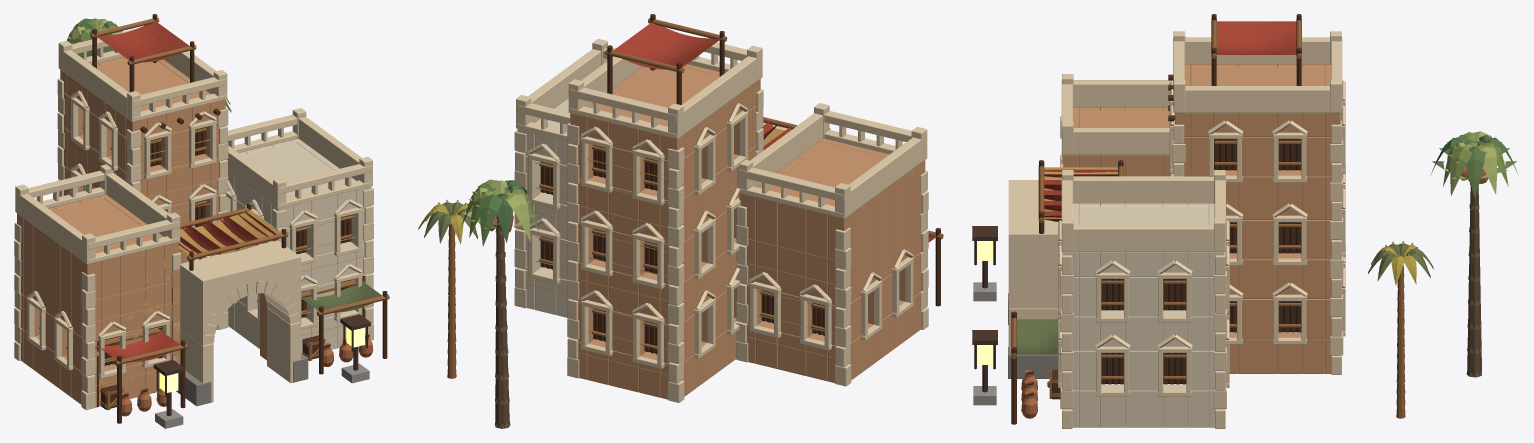
File: aden.glb
3 renders of one model, left to right at view 1: azimuth 30°, elevation 25°; view 2: azimuth 150°, elevation 25°; view 3: azimuth 270°, elevation 25°, orthographic. The views are drawn at different scales.
Visible parts, largest first — view 1: aden_B03R2_aden_Trim_001_02, aden_B03R2_aden_Ochre_001_04, aden_B03R2_aden_Plaster_001_05, aden_B03R2_aden_ClothRed_001_12, aden_B03R2_aden_Wood_001_00, aden_B03R2_aden_WoodLight_001_01, aden_B03R2_aden_ClothGold_001_11, aden_B03R2_aden_Pot_001_08, aden_WarmMini_wooddark_15, aden_B03R2_aden_EarthLight_001_07, aden_B03R2_aden_Stone_001_06, aden_B03R2_aden_LeafOlive_001_10 (+2 smaller); view 2: aden_B03R2_aden_Trim_001_02, aden_B03R2_aden_Ochre_001_04, aden_B03R2_aden_Plaster_001_05, aden_B03R2_aden_Wood_001_00, aden_B03R2_aden_WoodLight_001_01, aden_B03R2_aden_ClothRed_001_12, aden_BiomeV3_Branch_22, aden_B03R2_aden_EarthLight_001_07, aden_BiomeV3_Foliage_palm2_19, aden_BiomeV3_Foliage_palm0_17, aden_B03R2_aden_LeafOlive_001_10, aden_BiomeV3_Foliage_palm1_18 (+3 smaller); view 3: aden_B03R2_aden_Trim_001_02, aden_B03R2_aden_Ochre_001_04, aden_B03R2_aden_Plaster_001_05, aden_B03R2_aden_Wood_001_00, aden_B03R2_aden_WoodLight_001_01, aden_B03R2_aden_ClothRed_001_12, aden_B03R2_aden_LeafOlive_001_10, aden_BiomeV3_Branch_22, aden_WarmMini_wooddark_15, aden_B03R2_aden_Dark_001_03, aden_BiomeV3_Foliage_palm1_18, aden_B03R2_aden_Stone_001_06 (+7 smaller).
Boxes of the visible parts, x1,y1,x2,y2 form: aden_B03R2_aden_Trim_001_02: [14, 28, 373, 409]; aden_B03R2_aden_Ochre_001_04: [17, 57, 273, 406]; aden_B03R2_aden_Plaster_001_05: [228, 139, 371, 353]; aden_B03R2_aden_ClothRed_001_12: [96, 21, 276, 361]; aden_B03R2_aden_Wood_001_00: [92, 14, 387, 423]; aden_B03R2_aden_WoodLight_001_01: [39, 17, 389, 410]; aden_B03R2_aden_ClothGold_001_11: [178, 210, 280, 255]; aden_B03R2_aden_Pot_001_08: [122, 333, 373, 416]; aden_WarmMini_wooddark_15: [153, 314, 370, 415]; aden_B03R2_aden_EarthLight_001_07: [95, 137, 364, 386]; aden_B03R2_aden_Stone_001_06: [176, 353, 308, 406]; aden_B03R2_aden_LeafOlive_001_10: [225, 100, 381, 312]; aden_B03R2_aden_Trim_001_02: [514, 33, 928, 402]; aden_B03R2_aden_Ochre_001_04: [570, 64, 925, 399]; aden_B03R2_aden_Plaster_001_05: [517, 98, 568, 317]; aden_B03R2_aden_Wood_001_00: [540, 14, 940, 354]; aden_B03R2_aden_WoodLight_001_01: [447, 18, 943, 378]; aden_B03R2_aden_ClothRed_001_12: [613, 22, 935, 242]; aden_BiomeV3_Branch_22: [495, 215, 509, 428]; aden_B03R2_aden_EarthLight_001_07: [525, 156, 835, 375]; aden_BiomeV3_Foliage_palm2_19: [460, 180, 530, 241]; aden_BiomeV3_Foliage_palm0_17: [465, 183, 534, 246]; aden_B03R2_aden_LeafOlive_001_10: [424, 202, 480, 243]; aden_BiomeV3_Foliage_palm1_18: [469, 179, 538, 237]; aden_B03R2_aden_Trim_001_02: [1008, 31, 1345, 428]; aden_B03R2_aden_Ochre_001_04: [1063, 64, 1340, 373]; aden_B03R2_aden_Plaster_001_05: [1063, 203, 1224, 427]; aden_B03R2_aden_Wood_001_00: [1011, 14, 1301, 424]; aden_B03R2_aden_WoodLight_001_01: [1011, 19, 1405, 418]; aden_B03R2_aden_ClothRed_001_12: [1044, 21, 1296, 221]; aden_B03R2_aden_LeafOlive_001_10: [1017, 243, 1433, 354]; aden_BiomeV3_Branch_22: [1467, 185, 1481, 376]; aden_WarmMini_wooddark_15: [972, 226, 997, 392]; aden_B03R2_aden_Dark_001_03: [1027, 139, 1296, 395]; aden_BiomeV3_Foliage_palm1_18: [1450, 132, 1508, 195]; aden_B03R2_aden_Stone_001_06: [1008, 293, 1057, 378].
Bounding box in the file's own units: 3.45 × 3.13 × 4.9.
